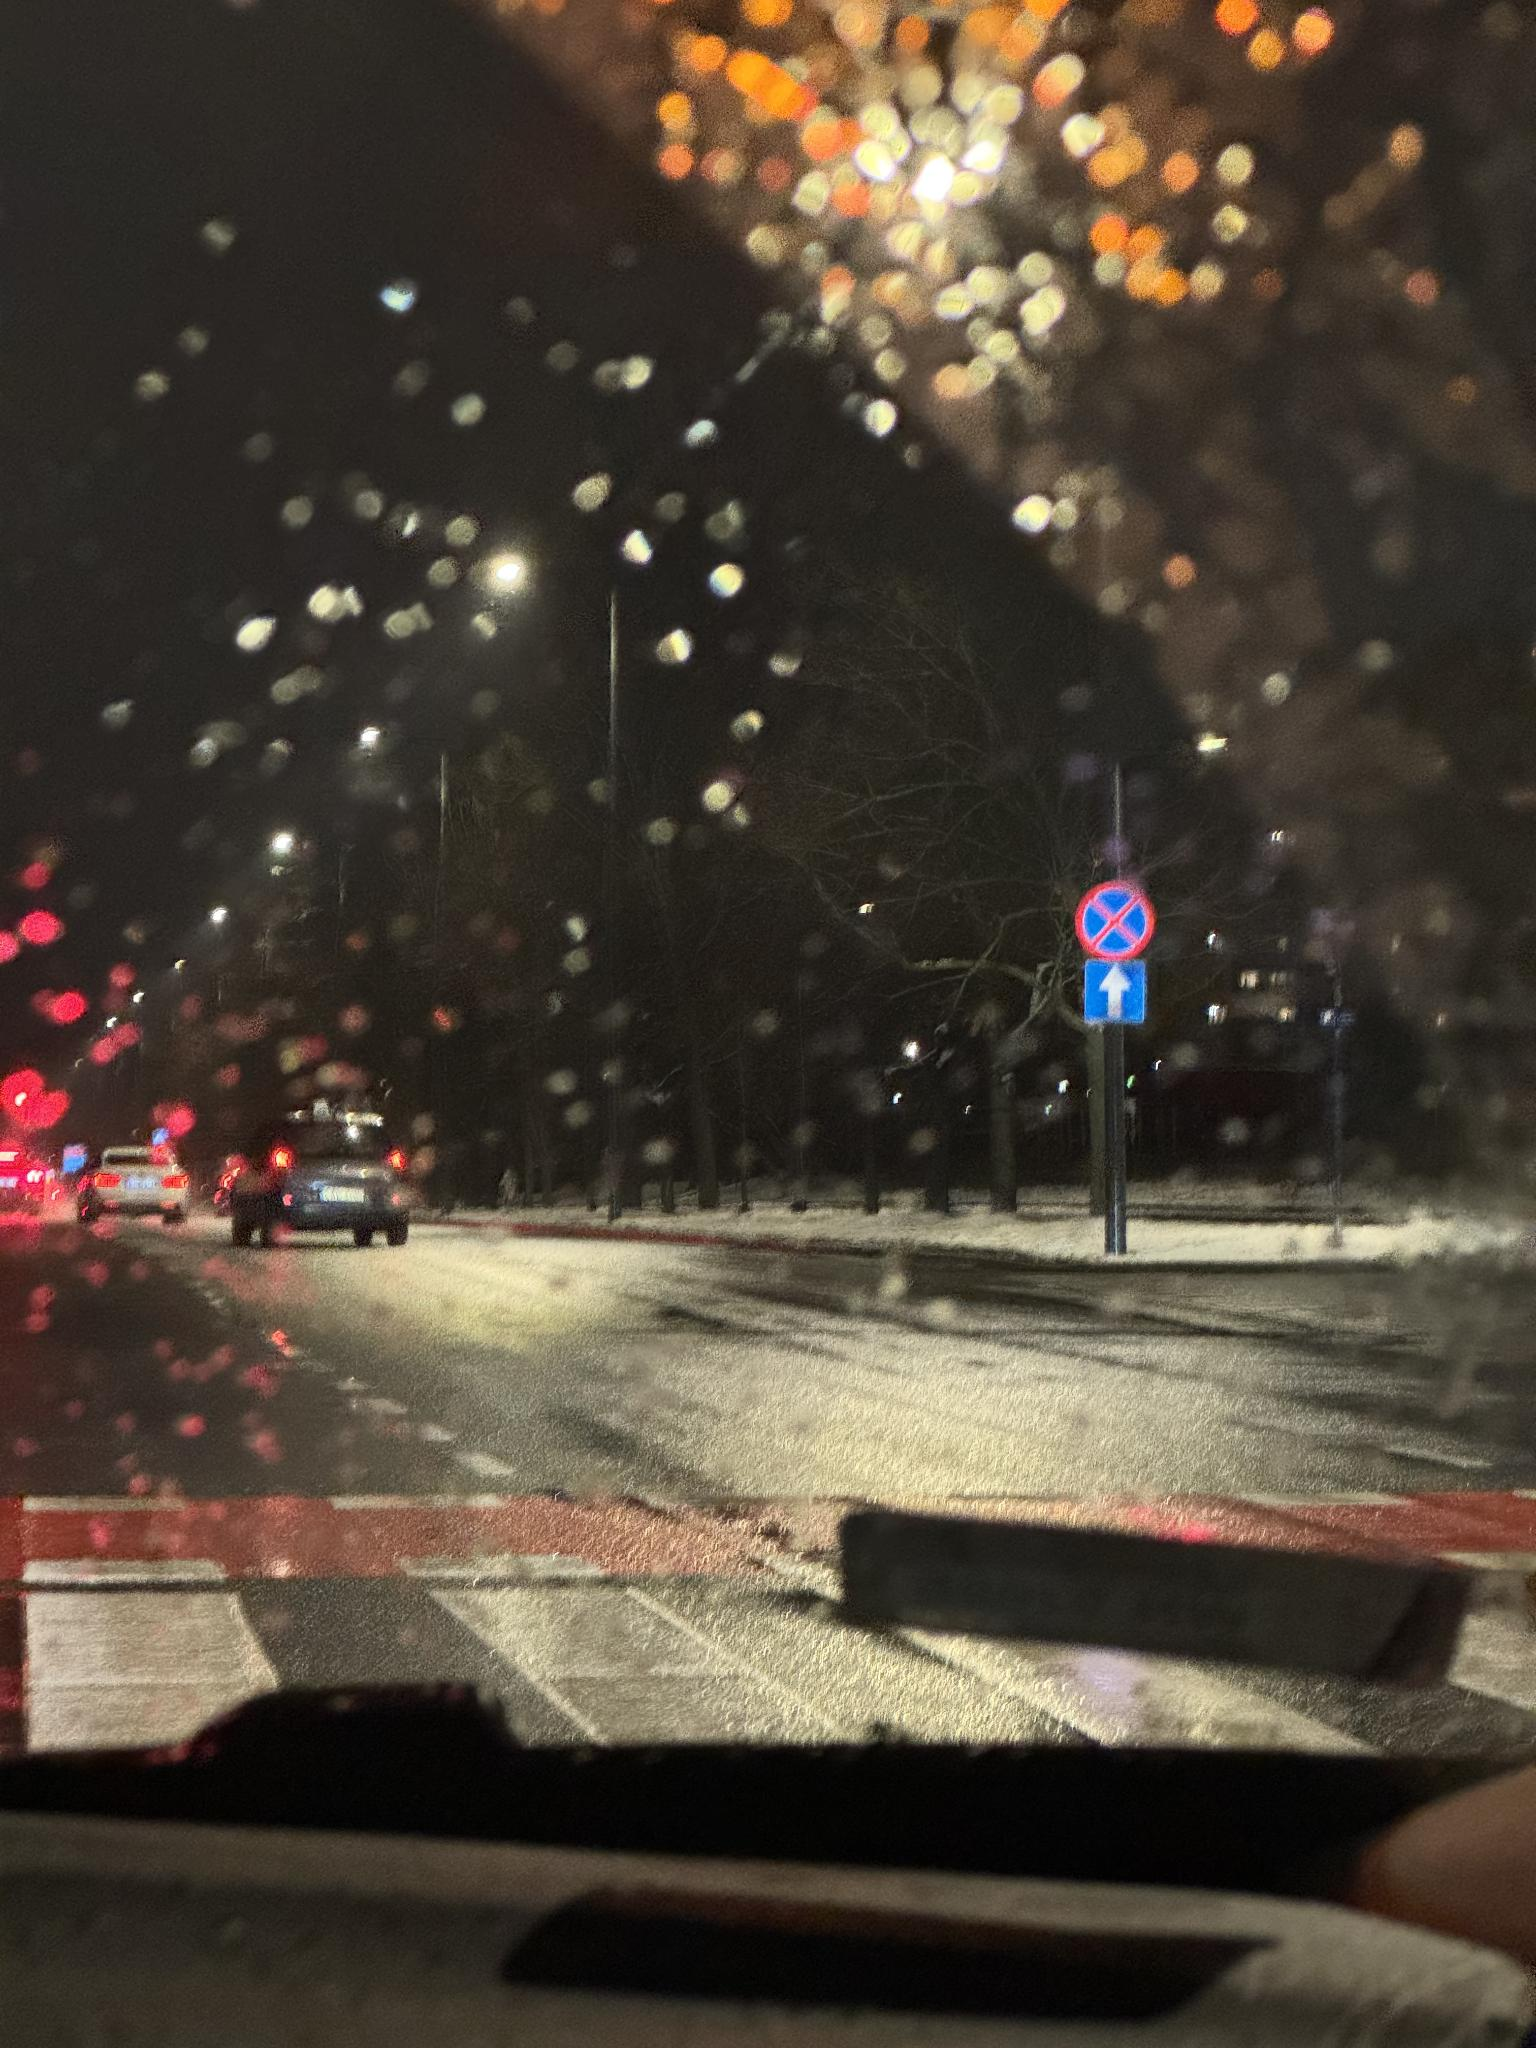information: (1084, 958, 1149, 1024)
prohibitory: (1073, 877, 1157, 961)
